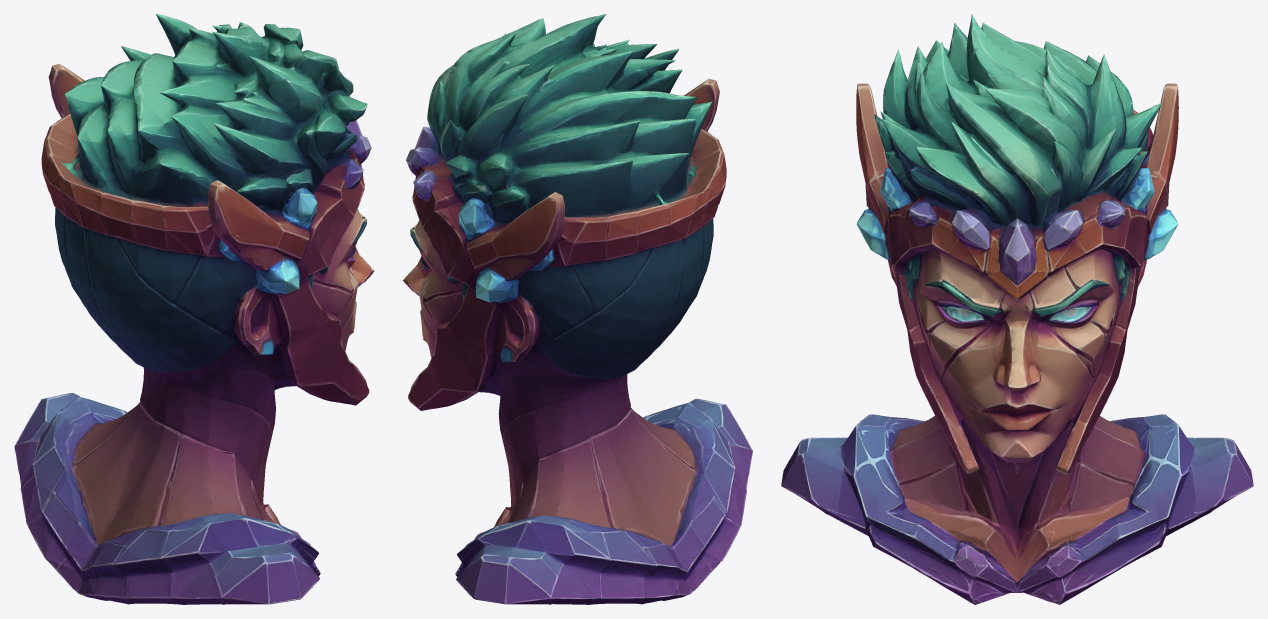
The model's file is Head_female1.glb.
3 renders of one model, left to right at view 1: azimuth 30°, elevation 25°; view 2: azimuth 150°, elevation 25°; view 3: azimuth 270°, elevation 25°, orthographic. The views are drawn at different scales.
Visible parts, largest first — view 1: tripo_node_20b3eb47-55b4-4fb1-bda2-b1e4a7ac8ee8; view 2: tripo_node_20b3eb47-55b4-4fb1-bda2-b1e4a7ac8ee8; view 3: tripo_node_20b3eb47-55b4-4fb1-bda2-b1e4a7ac8ee8.
Part boxes in pixels (<box>): tripo_node_20b3eb47-55b4-4fb1-bda2-b1e4a7ac8ee8: <box>14,14,374,604</box>; tripo_node_20b3eb47-55b4-4fb1-bda2-b1e4a7ac8ee8: <box>403,14,752,604</box>; tripo_node_20b3eb47-55b4-4fb1-bda2-b1e4a7ac8ee8: <box>781,14,1253,604</box>.
Size of the model in its own units: 0.5678 by 0.9993 by 0.7779.
1 material, 1 textured.
